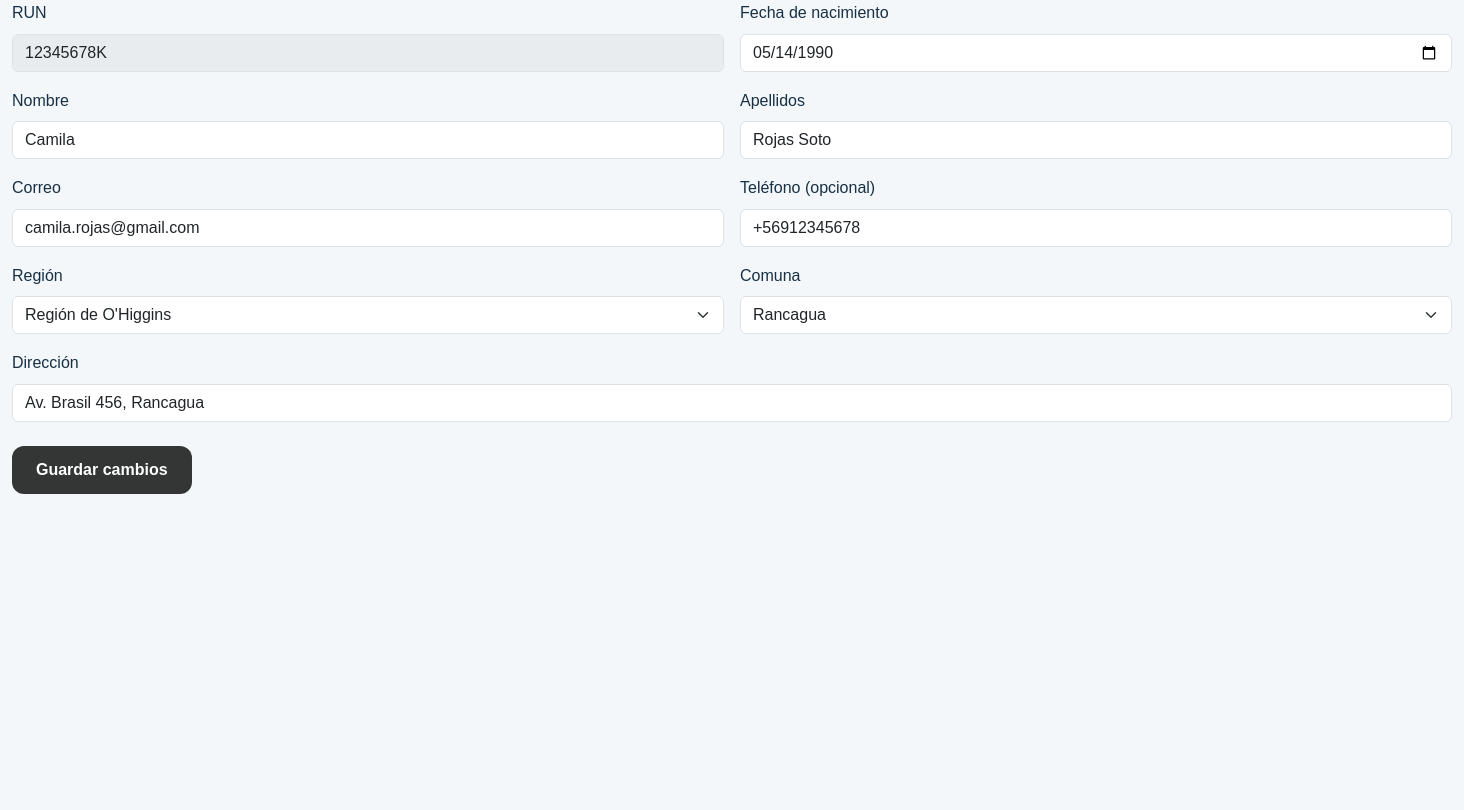
Test case: FormularioPerfil › no permite guardar si se borra el nombre
Clear the field labelled "Nombre" at (368,140), box left=12, top=121, right=724, bottom=159
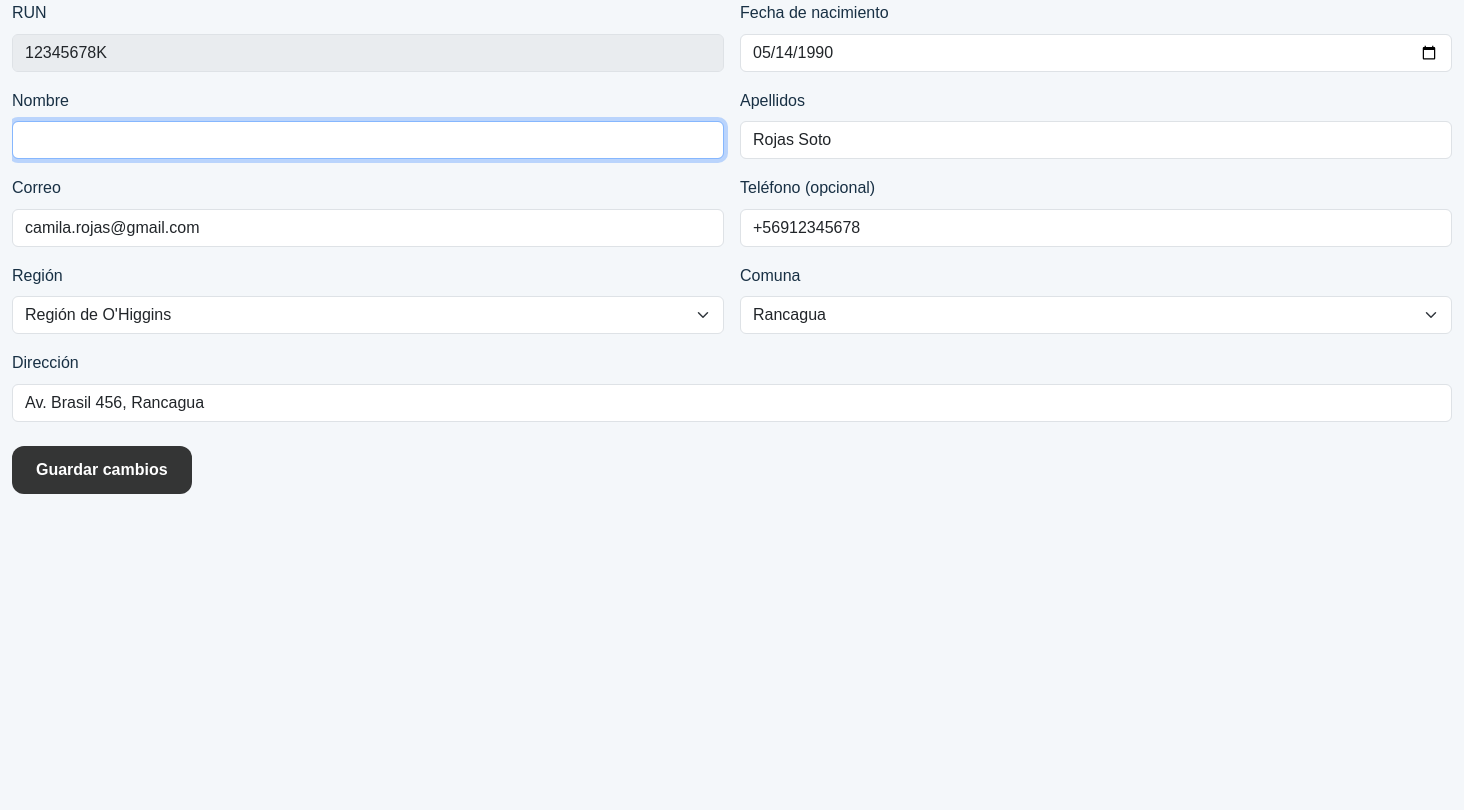
Click the button "Guardar cambios".
click(102, 470)  # box left=12, top=446, right=192, bottom=494
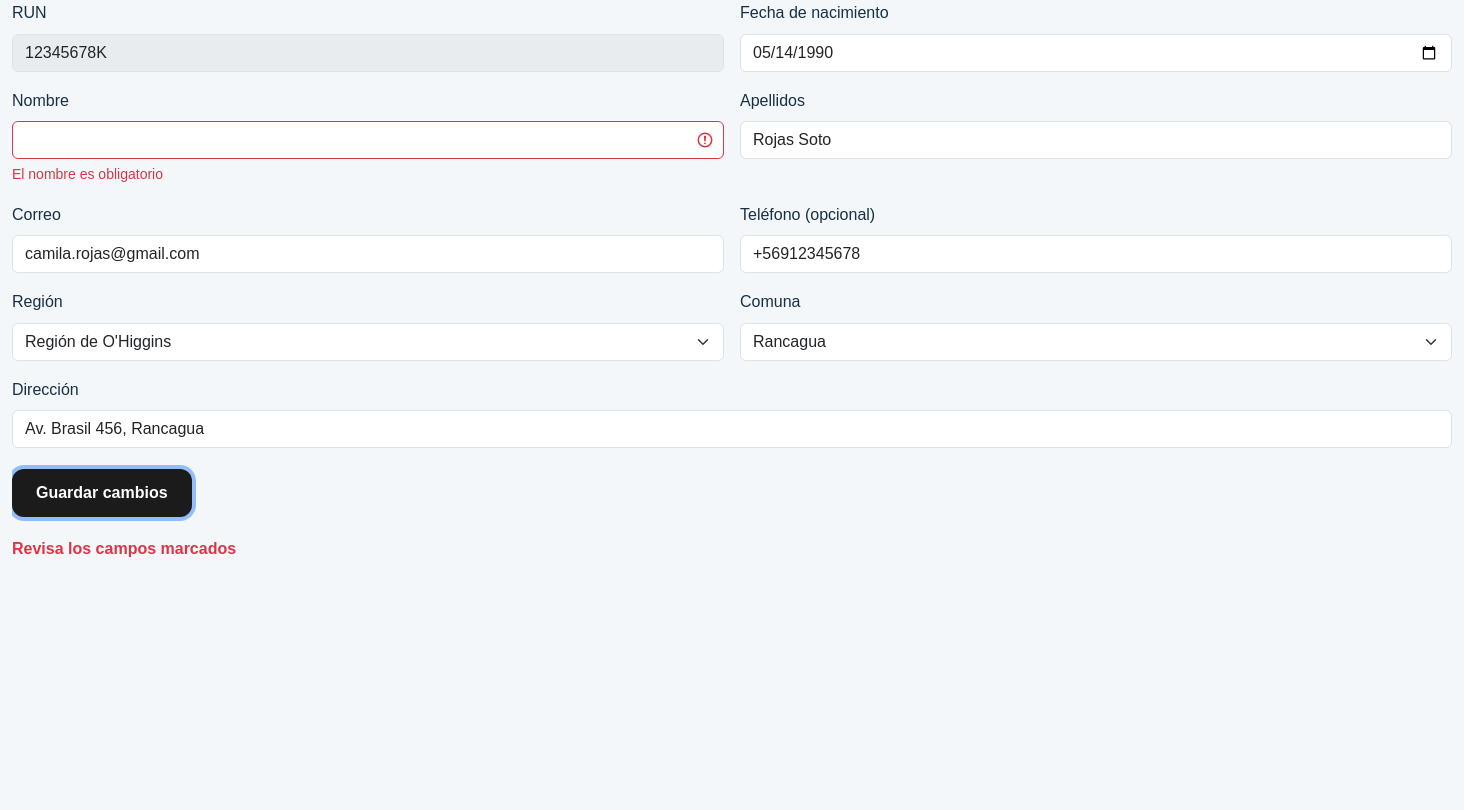
Check: the text "El nombre es obligatorio" is shown, box left=12, top=166, right=163, bottom=182
Check: the text "Revisa los campos marcados" is shown, box left=12, top=540, right=236, bottom=557
